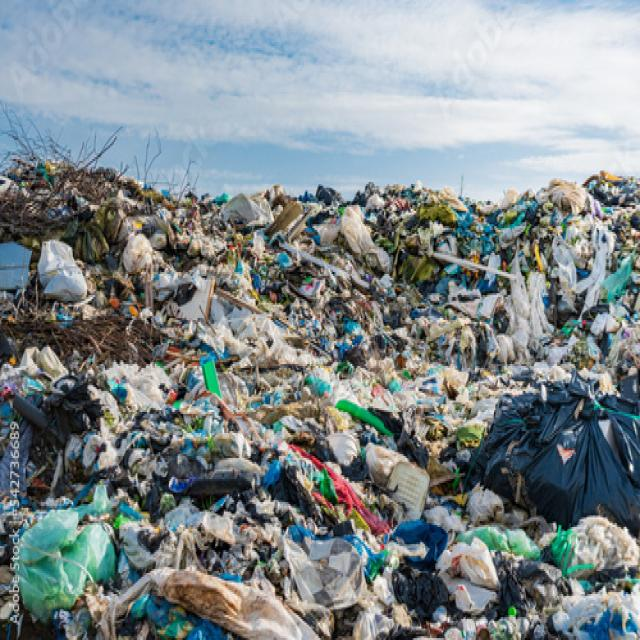plastic: (31, 515, 109, 598)
trash: (10, 169, 613, 475), (243, 517, 617, 640)
